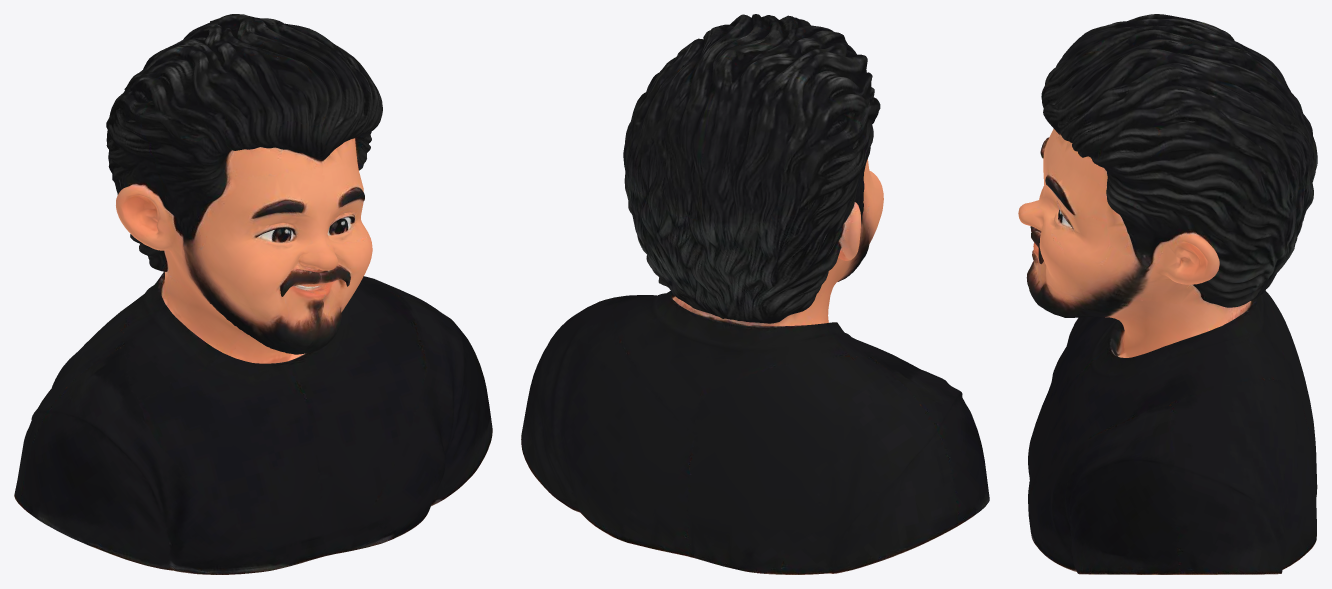
File: avatar.glb
3 views of the same model, side by side, from view 1: azimuth 30°, elevation 25°; view 2: azimuth 150°, elevation 25°; view 3: azimuth 270°, elevation 25° (orthographic). The views are drawn at different scales.
Parts seen in each view (by area): view 1: mesh_node; view 2: mesh_node; view 3: mesh_node.
Boxes of the visible parts, left/top/right/bottom form: mesh_node: left=14, top=14, right=492, bottom=574; mesh_node: left=521, top=14, right=989, bottom=574; mesh_node: left=1018, top=14, right=1317, bottom=574.
Bounding box in the file's own units: 0.1169 × 0.12 × 0.0681.
1 material, 1 textured.
